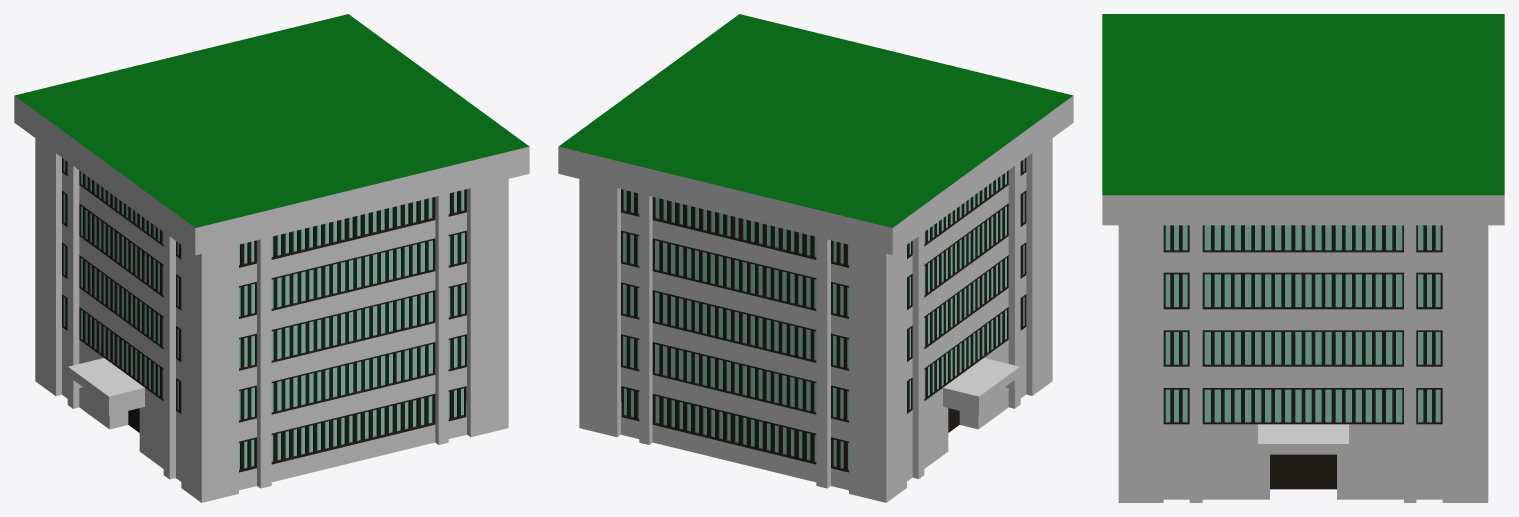
File: Br Connon Hall.fbx
The picture shows the model from 3 angles, left to right: view 1: azimuth 30°, elevation 25°; view 2: azimuth 150°, elevation 25°; view 3: azimuth 270°, elevation 25°; orthographic projection. The views are drawn at different scales.
Parts seen in each view (by area): view 1: Br Connon Hall; view 2: Br Connon Hall; view 3: Br Connon Hall.
Part boxes in pixels (<box>): Br Connon Hall: <box>14,14,529,502</box>; Br Connon Hall: <box>558,14,1073,502</box>; Br Connon Hall: <box>1102,14,1504,502</box>.
Size of the model in its own units: 82.76 by 61.1 by 70.74.
